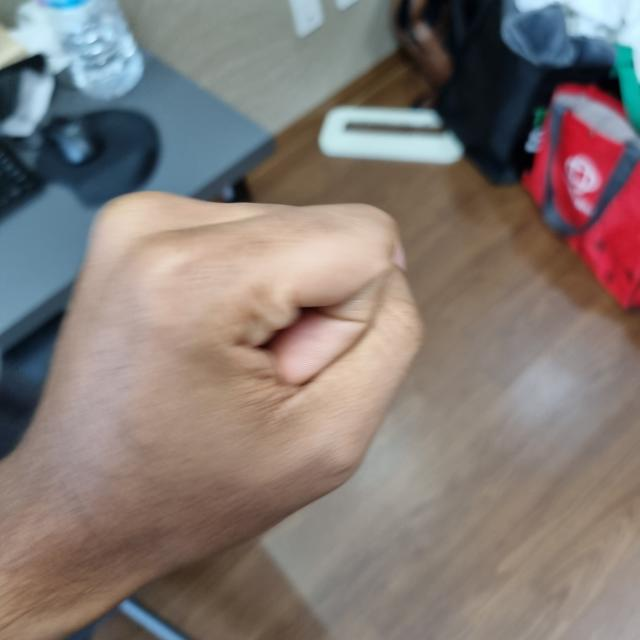Rock: (21, 190, 420, 577)
